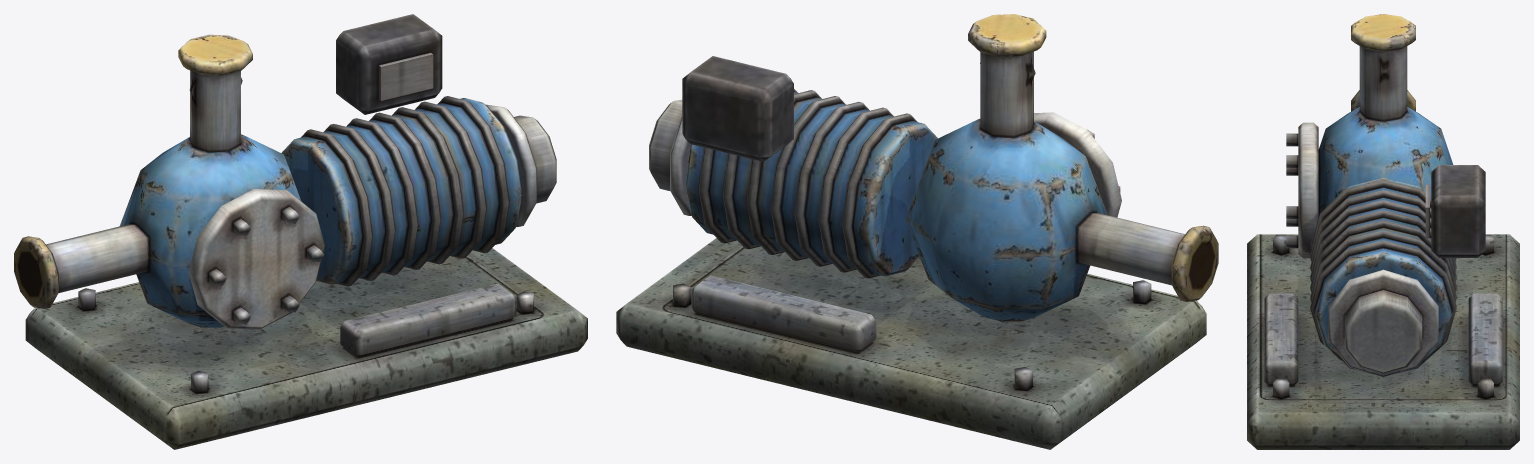
Rendered from bomba.glb.
3 renders of one model, left to right at view 1: azimuth 30°, elevation 25°; view 2: azimuth 150°, elevation 25°; view 3: azimuth 270°, elevation 25°, orthographic. The views are drawn at different scales.
Visible parts, largest first — view 1: bomba; view 2: bomba; view 3: bomba.
Boxes of the visible parts, x1=… form: bomba: x1=14, y1=14, x2=587, y2=449; bomba: x1=616, y1=14, x2=1218, y2=449; bomba: x1=1247, y1=14, x2=1519, y2=449.
Size of the model in its own units: 1.56 by 0.95 by 0.8.
Materials: 1 (1 with a texture image).
